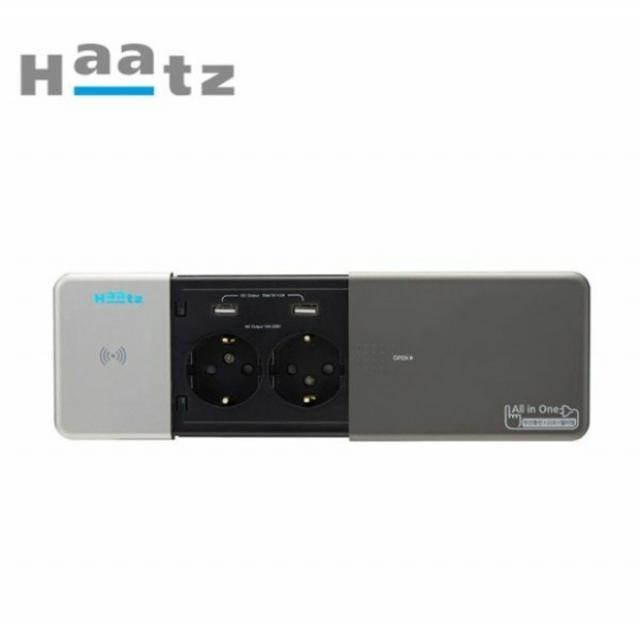typeb: (159, 252, 355, 499)
